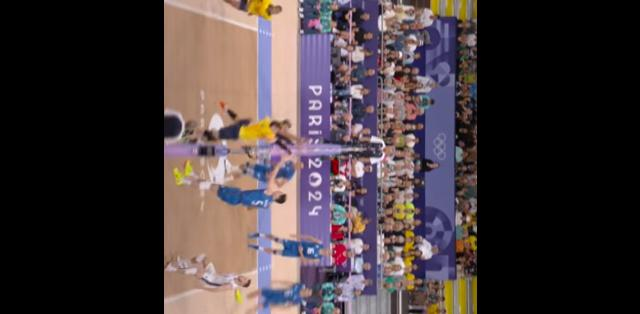Libero: (165, 254, 253, 292)
